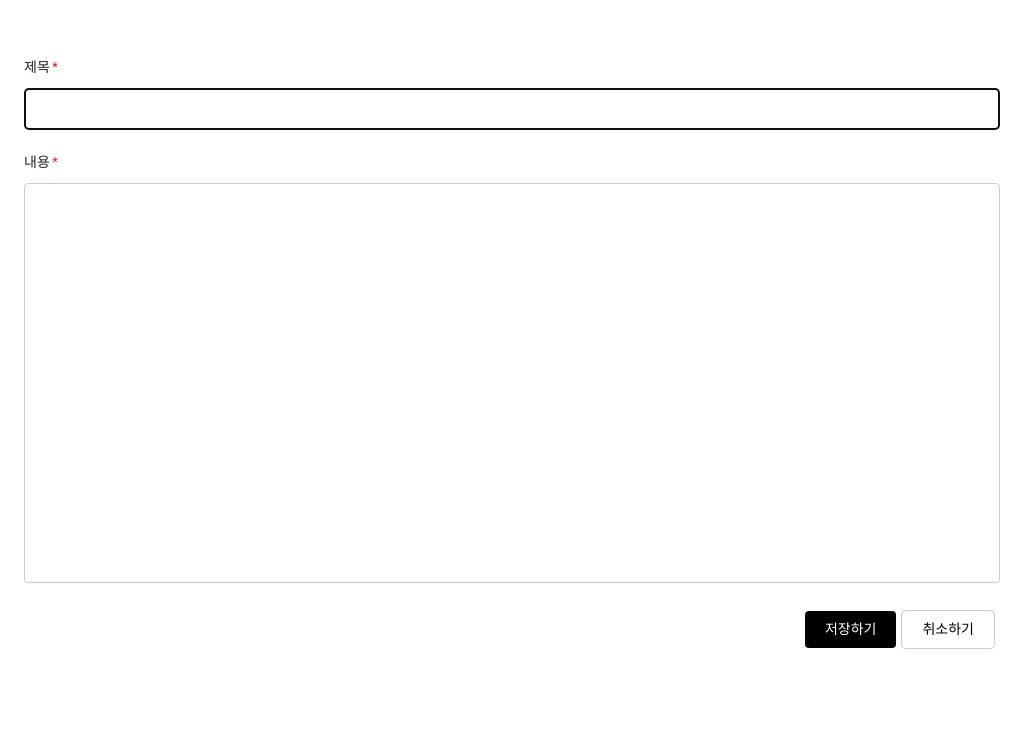
Test case: 게시글 작성 페이지 › 양식 제출 › 제목이 빈 문자열인 양식을 제출할 경우 에러 메세지를 보여준다.
(page scrolled)
Type "반갑습니다." into the text box labelled "내용" at (512, 383), box [24,183,1000,583]
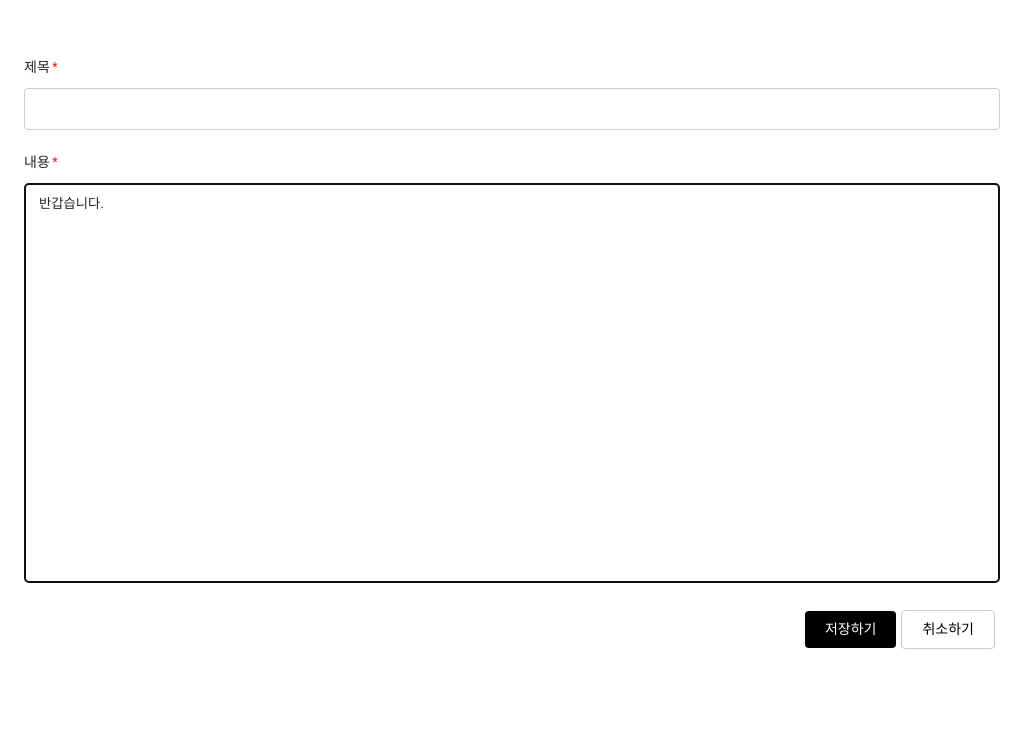
Click the button "저장하기" at (851, 630), box [805,611,897,648]
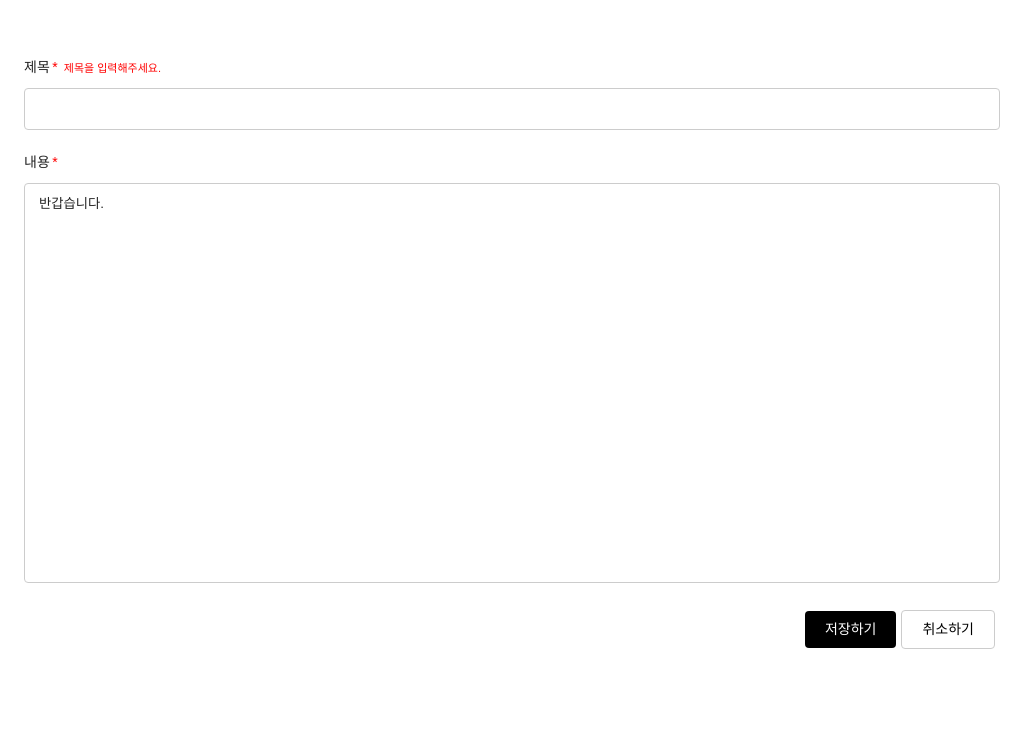
Now the text with class "message--error" reads "제목을 입력해주세요.", box [64,62,161,74]
